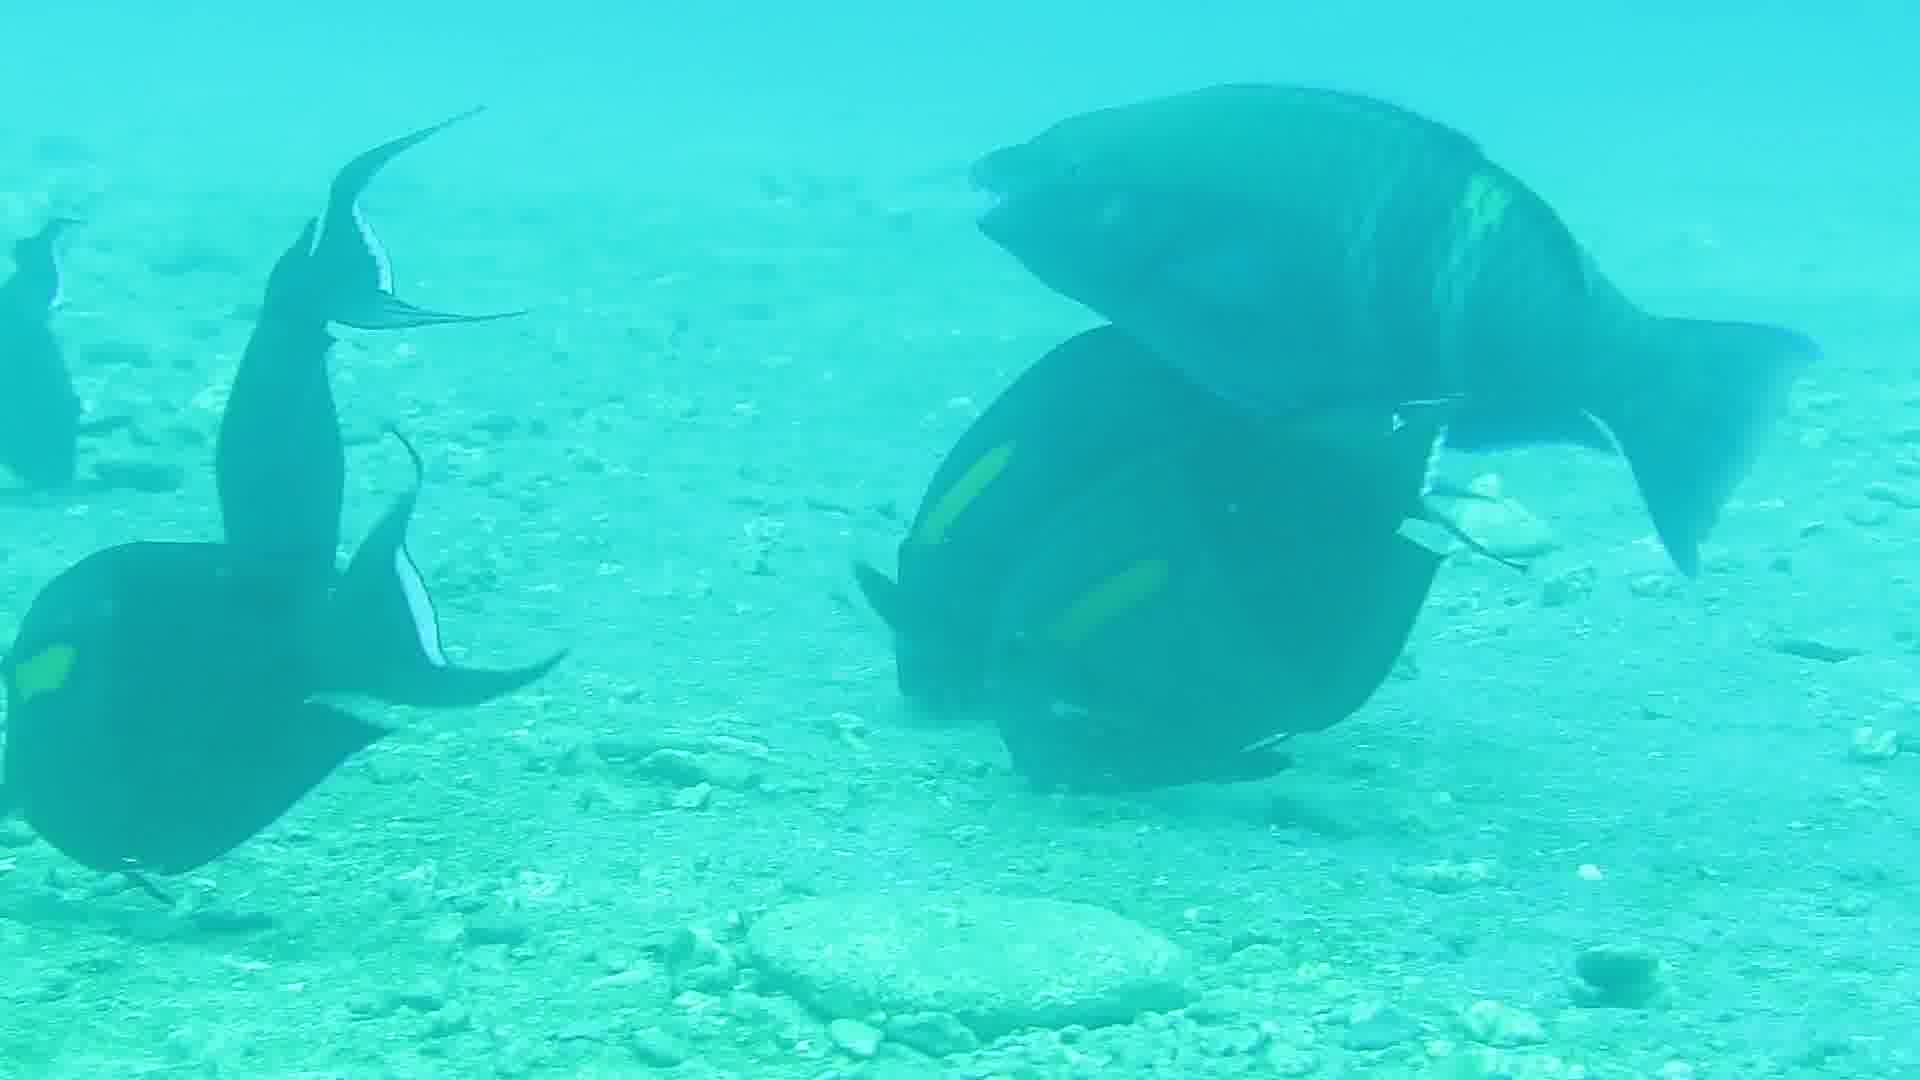Acanthurus olivaceus: (938, 1, 1818, 576), (796, 287, 1489, 825), (109, 94, 632, 600), (3, 419, 525, 924)
